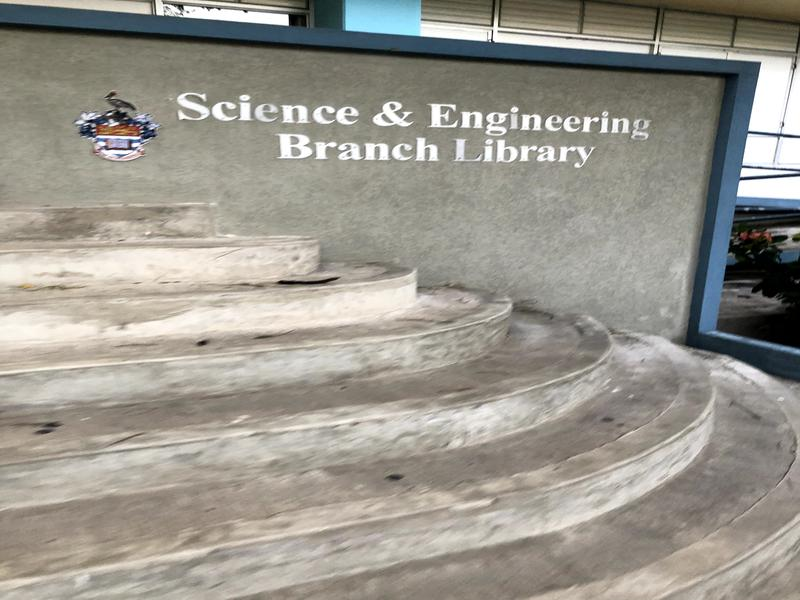18.0053644_-76.7493880_librarysign: (156, 81, 670, 181)
